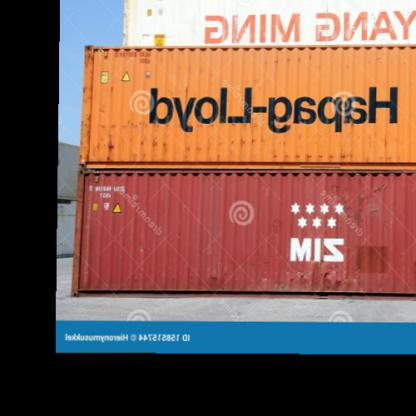Damage: (80, 37, 100, 162)
